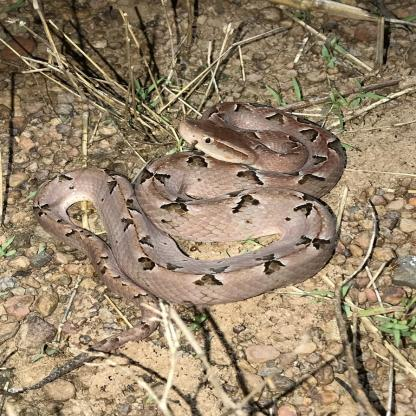Snake: (27, 95, 352, 326)
